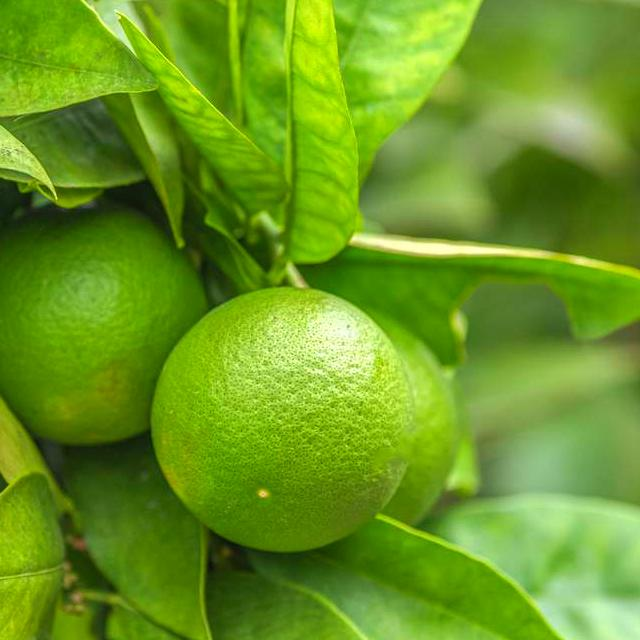lime: (153, 290, 414, 556), (0, 204, 215, 448)
